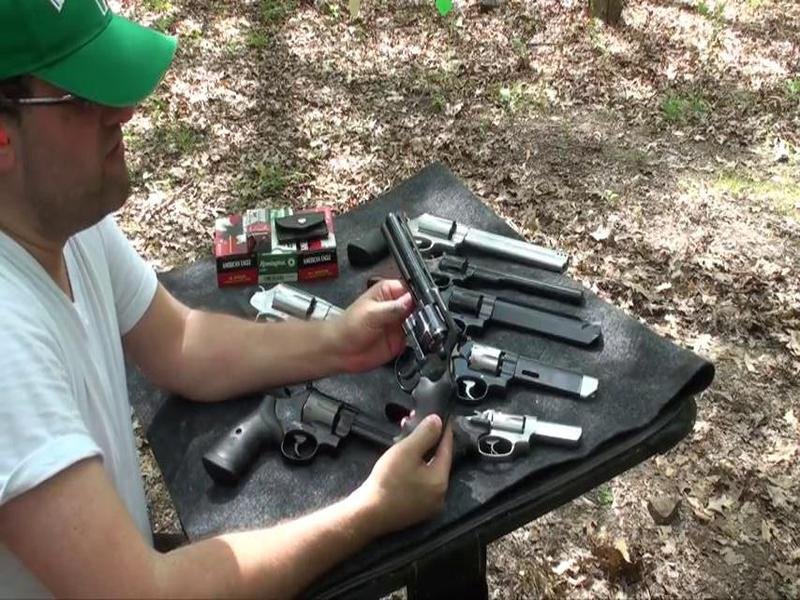Revolver: (357, 204, 476, 447)
